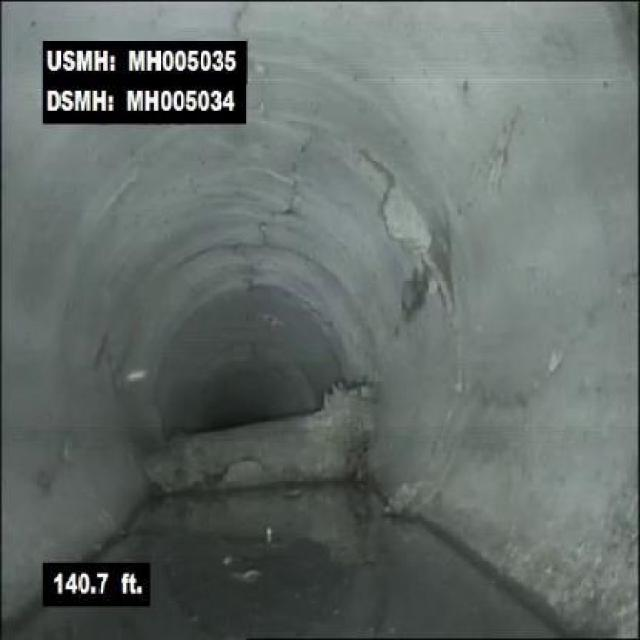Crack: (542, 267, 638, 398), (229, 5, 274, 120), (469, 376, 538, 416), (286, 138, 309, 217)
Utility intrusion: (145, 382, 372, 506)
